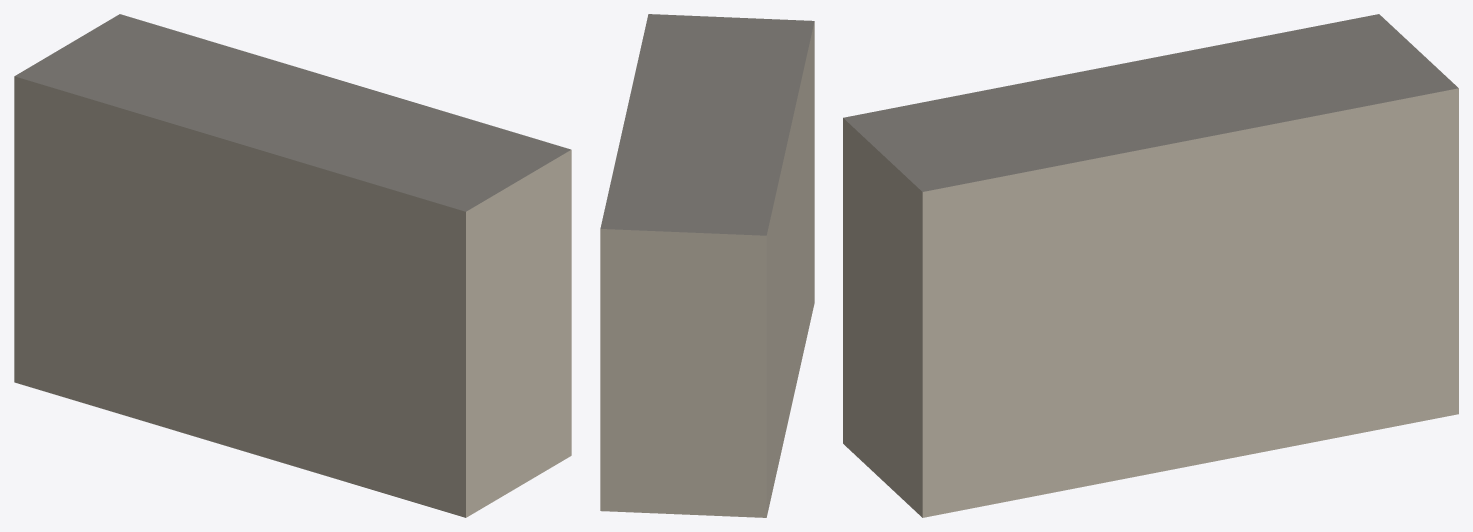
The picture shows the model from 3 angles, left to right: view 1: azimuth 30°, elevation 25°; view 2: azimuth 150°, elevation 25°; view 3: azimuth 270°, elevation 25°; orthographic projection. The views are drawn at different scales.
Parts seen in each view (by area): view 1: HP-w1327395985; view 2: HP-w1327395985; view 3: HP-w1327395985.
Part boxes in pixels (left/top/right/bottom): HP-w1327395985: left=14, top=14, right=571, bottom=517; HP-w1327395985: left=600, top=14, right=814, bottom=517; HP-w1327395985: left=843, top=14, right=1458, bottom=517.
Size of the model in its own units: 21.09 by 18 by 30.82.
